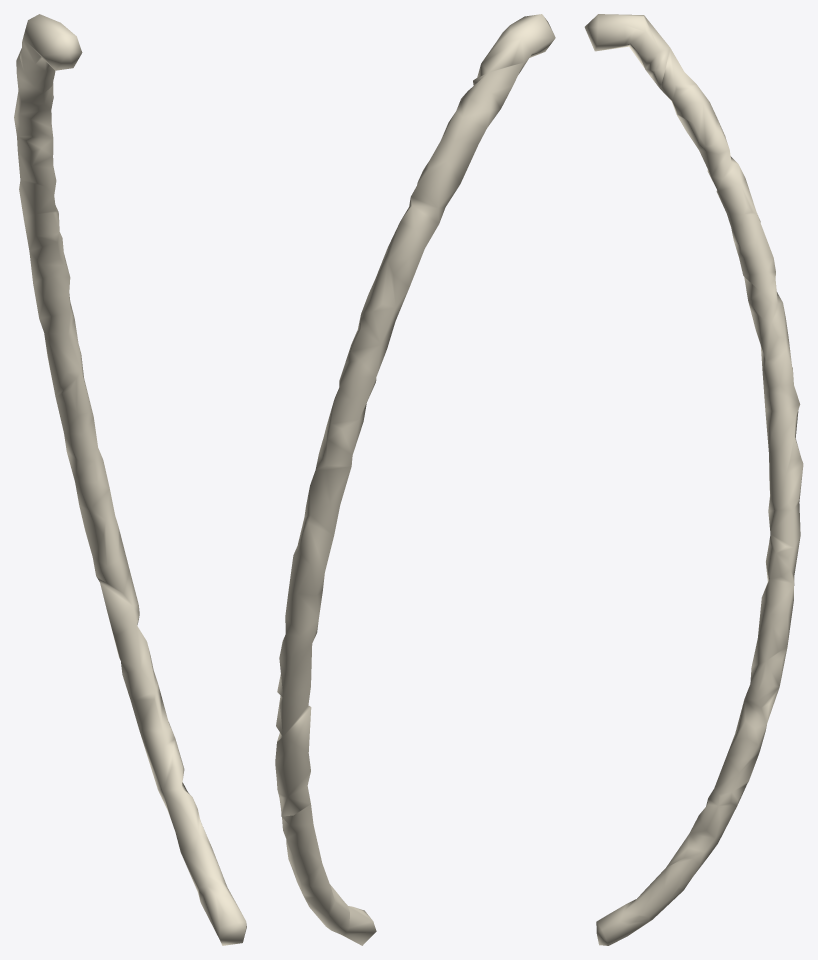
Rendered from rib_4_r.glb.
The picture shows the model from 3 angles, left to right: view 1: azimuth 30°, elevation 25°; view 2: azimuth 150°, elevation 25°; view 3: azimuth 270°, elevation 25°; orthographic projection. The views are drawn at different scales.
Parts seen in each view (by area): view 1: geometry_0; view 2: geometry_0; view 3: geometry_0.
Boxes of the visible parts, bbox=[...] form: geometry_0: bbox=[14, 14, 246, 945]; geometry_0: bbox=[275, 14, 555, 945]; geometry_0: bbox=[584, 14, 803, 945].
Bounding box in the file's own units: 0.2775 × 1.23 × 0.2854.
